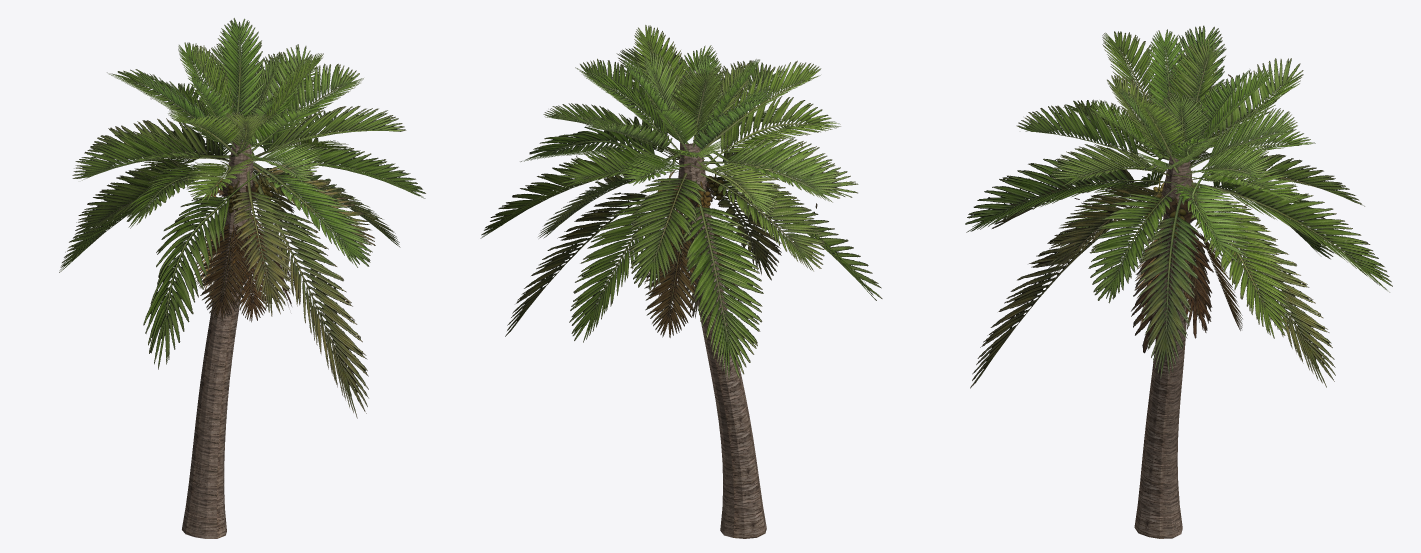
The model's file is palmera_datilera.glb.
The picture shows the model from 3 angles, left to right: view 1: azimuth 30°, elevation 25°; view 2: azimuth 150°, elevation 25°; view 3: azimuth 270°, elevation 25°; orthographic projection. The views are drawn at different scales.
Visible parts, largest first — view 1: PD_Copa_Hojas, PD_Estipite; view 2: PD_Copa_Hojas, PD_Estipite; view 3: PD_Copa_Hojas, PD_Estipite.
Part boxes in pixels (bbox=[...]): PD_Copa_Hojas: bbox=[59, 18, 425, 418]; PD_Estipite: bbox=[182, 142, 253, 538]; PD_Copa_Hojas: bbox=[480, 25, 882, 379]; PD_Estipite: bbox=[678, 140, 766, 538]; PD_Copa_Hojas: bbox=[965, 25, 1392, 388]; PD_Estipite: bbox=[1134, 155, 1192, 538].
Size of the model in its own units: 10.71 by 13.58 by 11.
2 materials, 2 textured.
